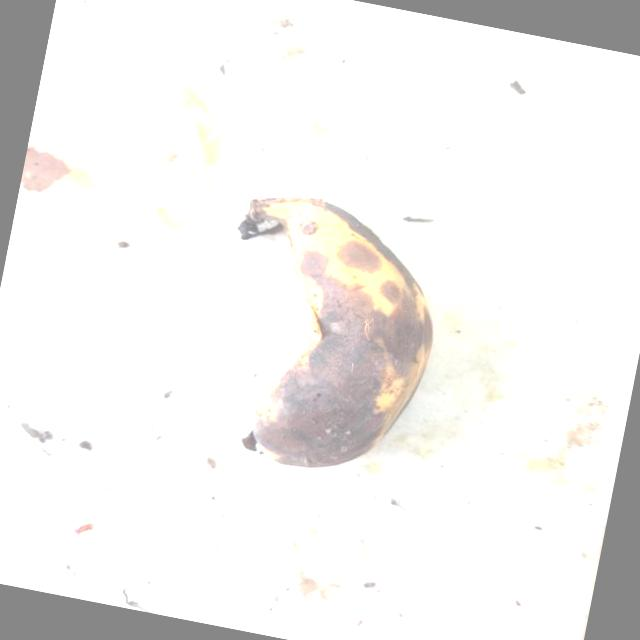Banana: (194, 183, 456, 490)
